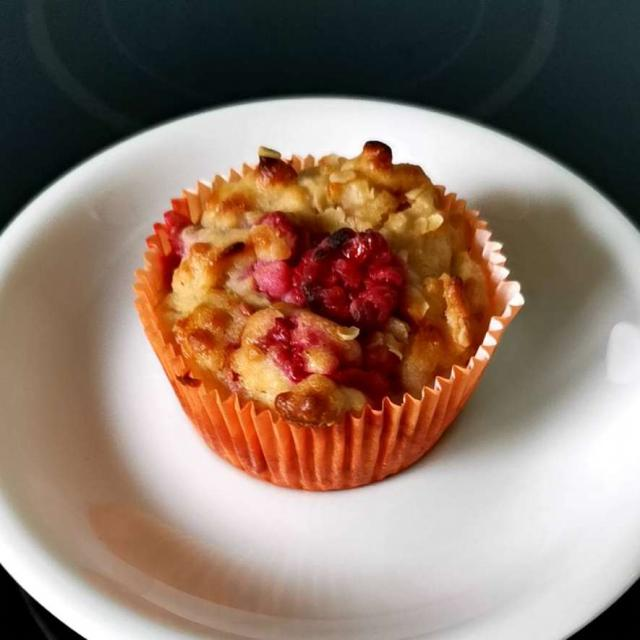fruit-tart: (150, 155, 498, 415)
